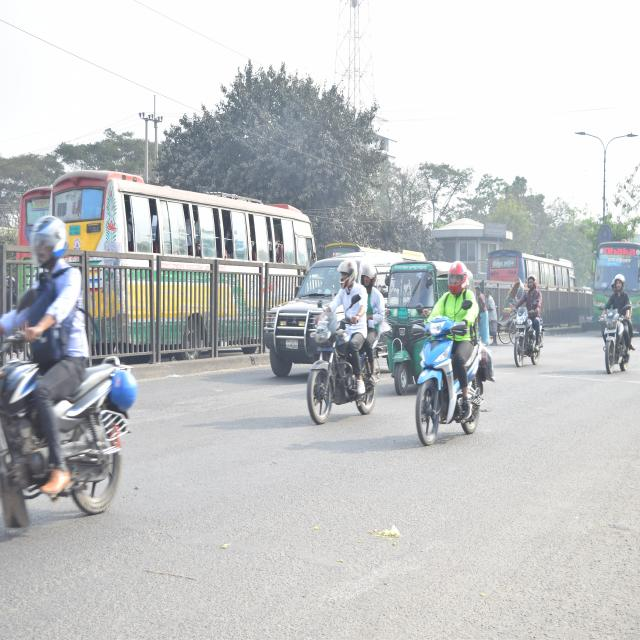bus: (588, 226, 640, 338)
car: (268, 252, 338, 367)
motorbike: (0, 282, 136, 539), (402, 284, 487, 453), (300, 284, 383, 424), (599, 289, 631, 382), (508, 295, 544, 375)
